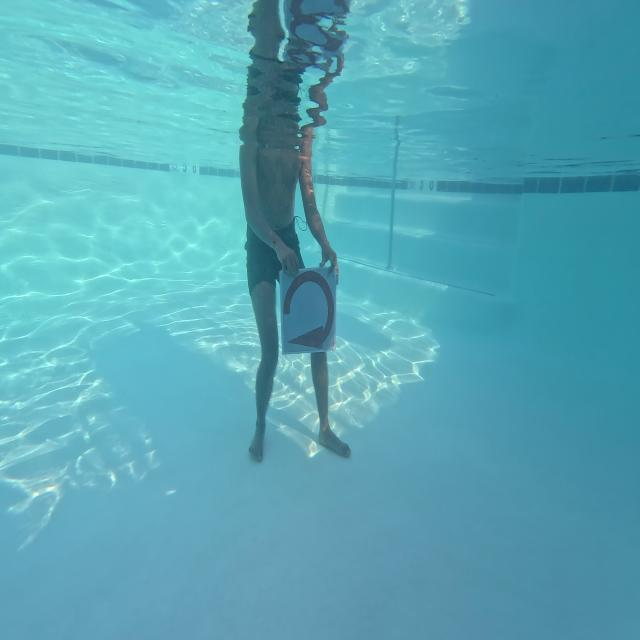red_side: (279, 258, 336, 356)
